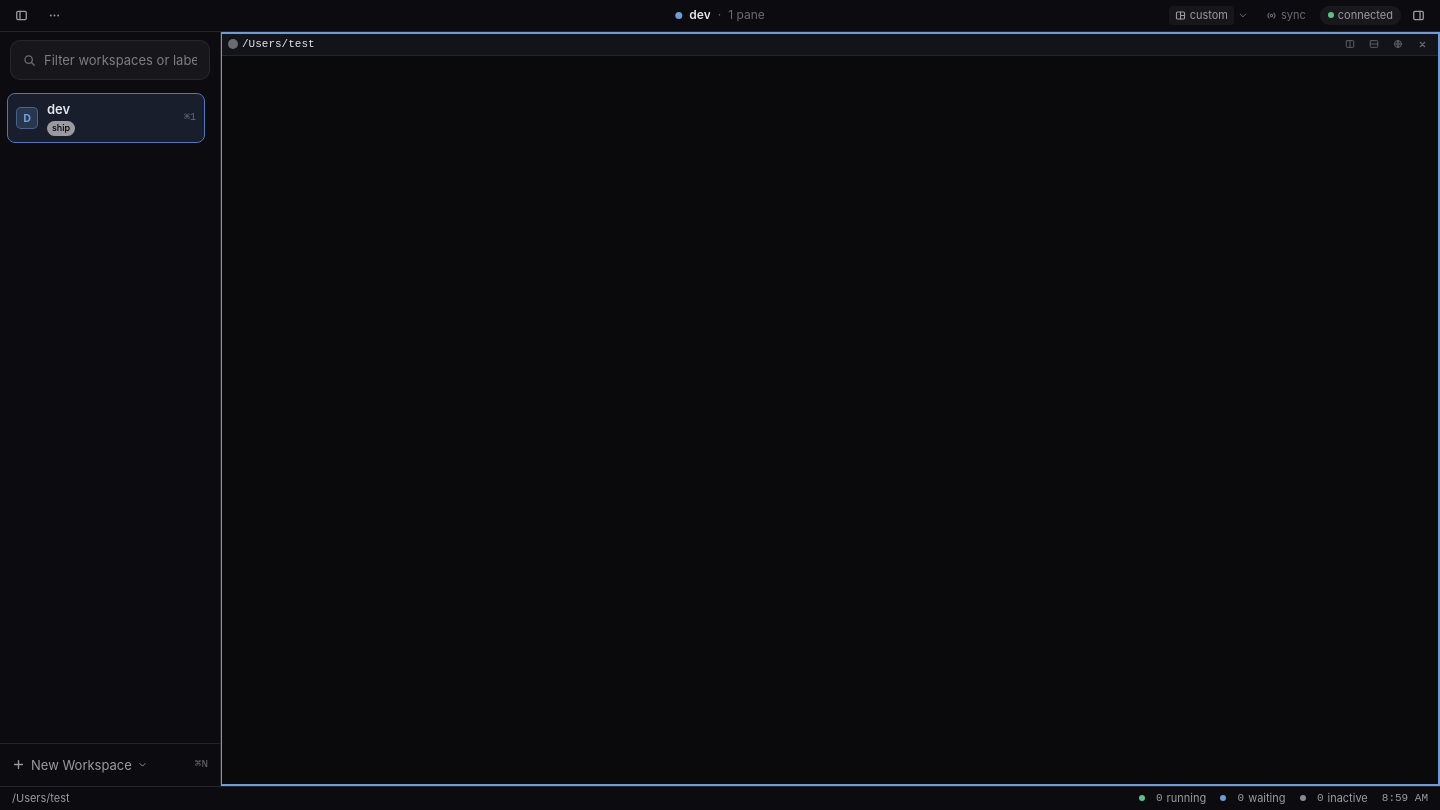
Test: opening the Settings window › opens straight to Labels from the sidebar’s “Manage Labels…”
Right-click the option with test id "workspace-row" at (106,118), box [8,94,204,142]
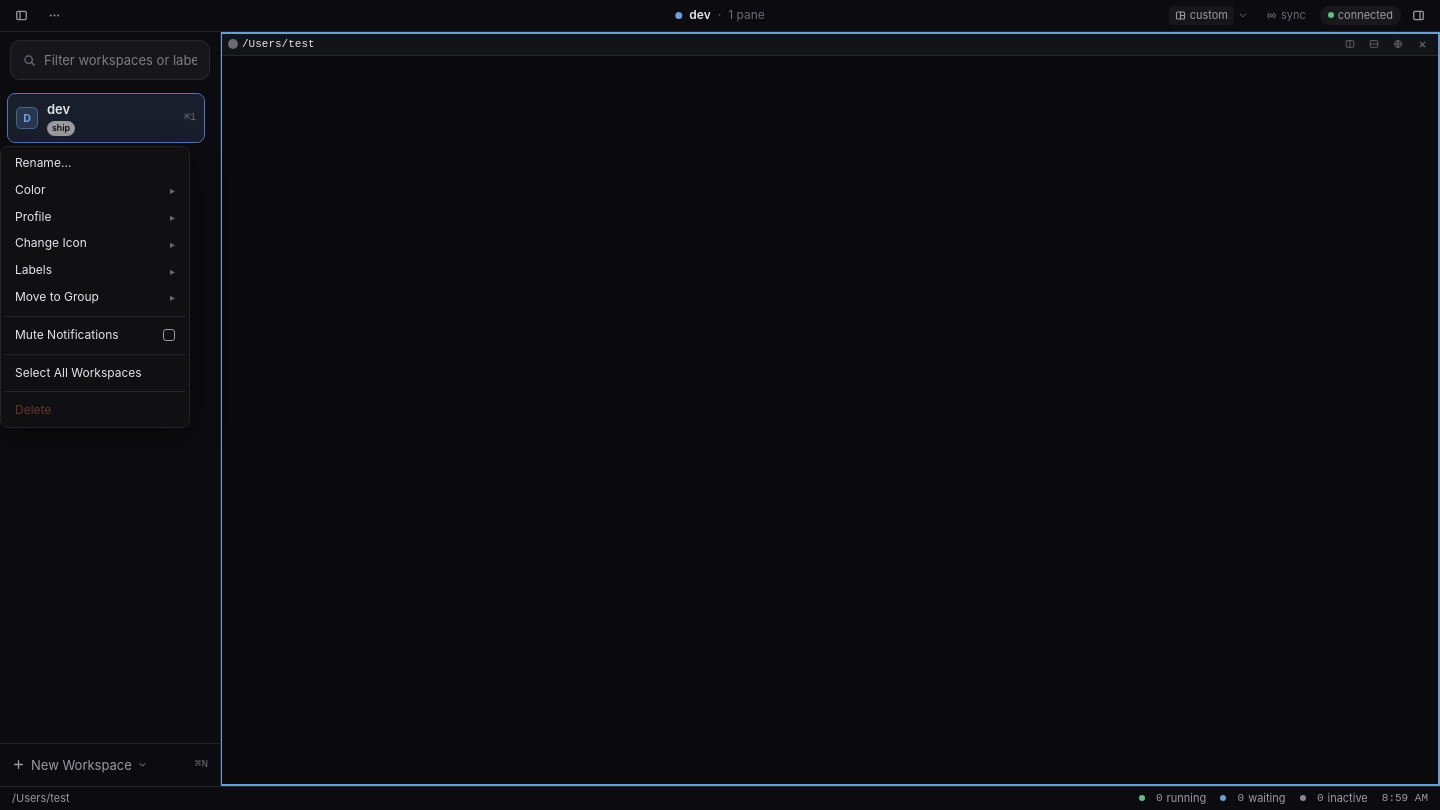
Hover over the text "Labels" at (34,270), box [15,262,52,277]
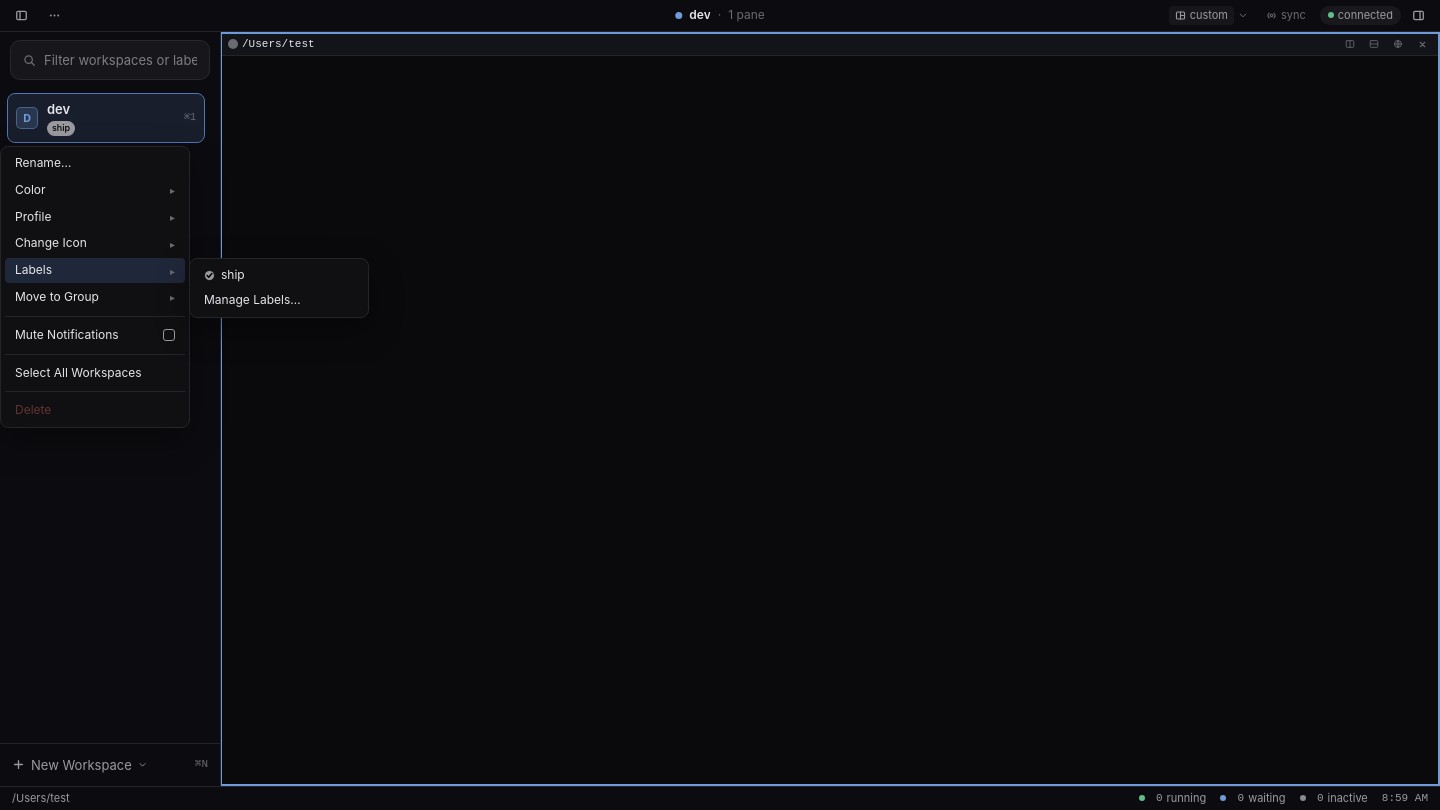
Click the menu item "Manage Labels…" at (279,300), box [194,288,364,313]
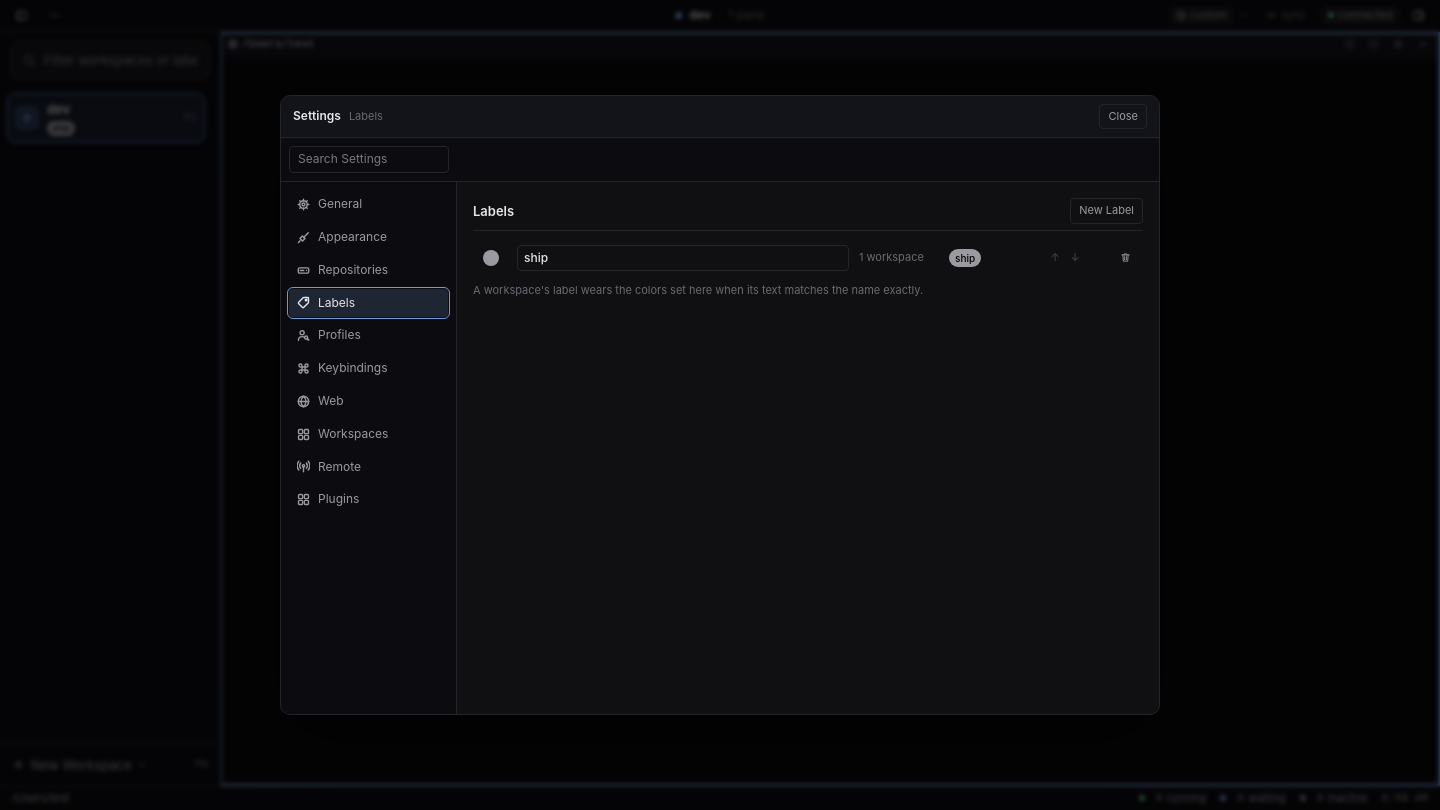
Expected: the element with test id "settings-tab-labels" is shown, [473,198,1143,297]
